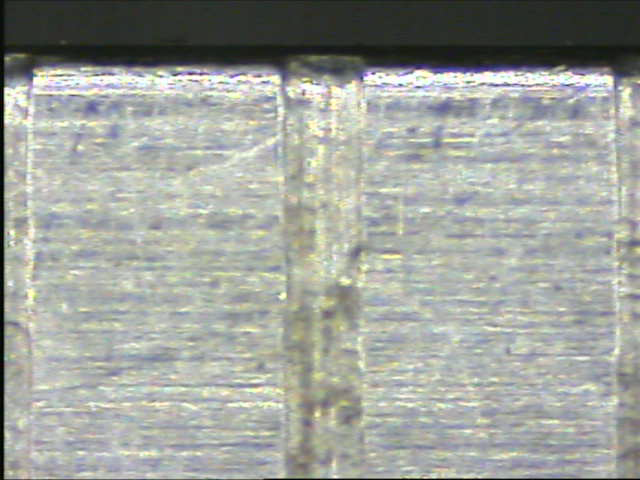line: (281, 52, 371, 473)
